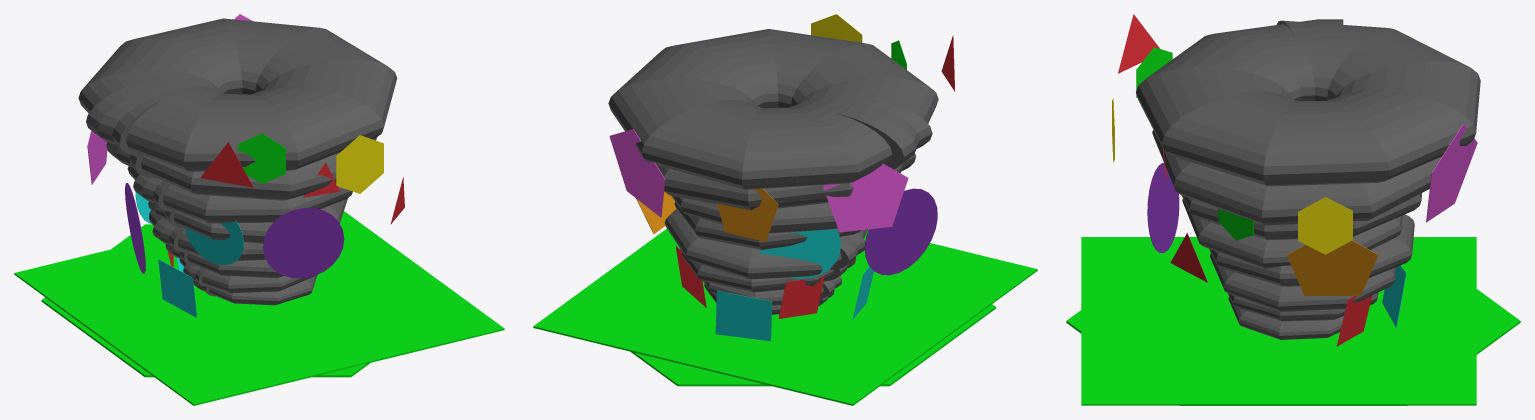
The model's file is Figuras01.glb.
The picture shows the model from 3 angles, left to right: view 1: azimuth 30°, elevation 25°; view 2: azimuth 150°, elevation 25°; view 3: azimuth 270°, elevation 25°; orthographic projection. The views are drawn at different scales.
Visible parts, largest first — view 1: tornado, Cylinder.002; view 2: tornado, Cylinder.002; view 3: tornado, Cylinder.002.
Boxes of the visible parts, bbox=[...] form: tornado: bbox=[78, 14, 404, 317]; Cylinder.002: bbox=[14, 211, 504, 405]; tornado: bbox=[608, 14, 955, 341]; Cylinder.002: bbox=[533, 228, 1037, 405]; tornado: bbox=[1112, 14, 1480, 346]; Cylinder.002: bbox=[1066, 237, 1520, 405].
Bounding box in the file's own units: 5.87 × 4.23 × 6.66.
